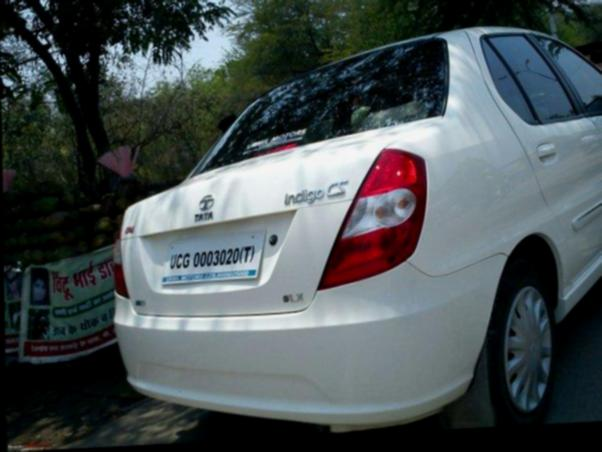License_Plate: (156, 225, 274, 292)
